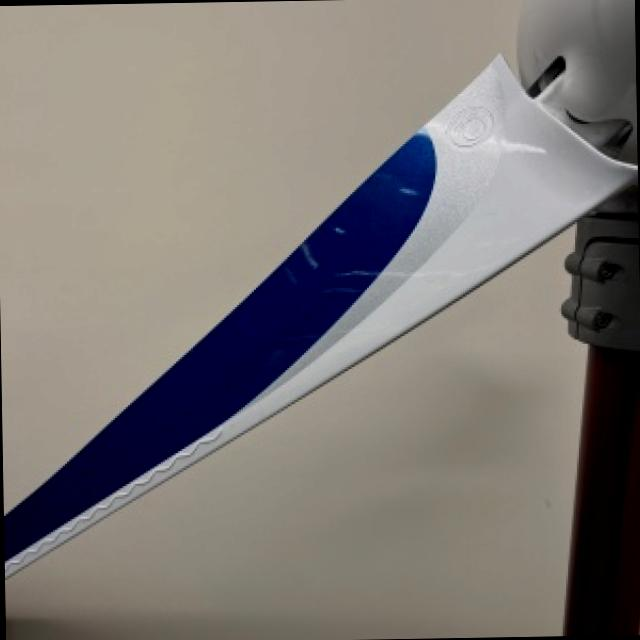healthy: (8, 226, 585, 640)
